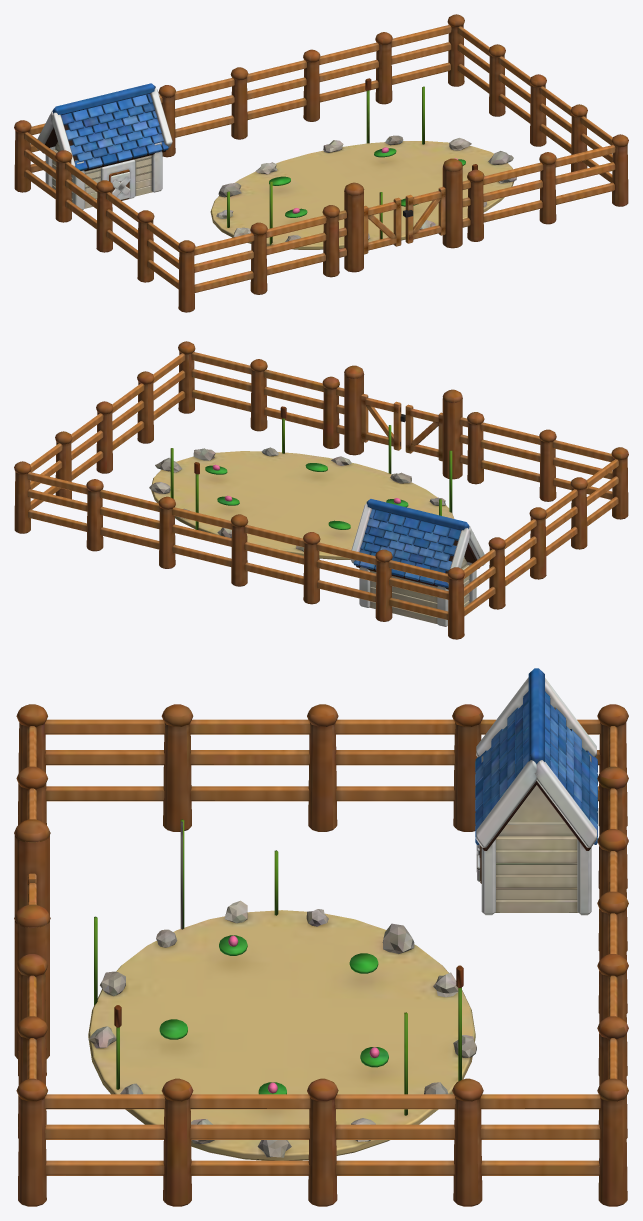
File: call_duck_pond.glb
3 views of the same model, one above another, from view 1: azimuth 30°, elevation 25°; view 2: azimuth 150°, elevation 25°; view 3: azimuth 270°, elevation 25° (orthographic). The views are drawn at different scales.
Parts seen in each view (by area): view 1: call_duck_pond, gate1, gate0; view 2: call_duck_pond, gate1, gate0; view 3: call_duck_pond.
Part boxes in pixels (<box>): call_duck_pond: <box>14,14,628,312</box>; gate1: <box>403,186,445,243</box>; gate0: <box>364,197,401,254</box>; call_duck_pond: <box>14,341,628,639</box>; gate1: <box>361,393,405,450</box>; gate0: <box>405,404,442,461</box>; call_duck_pond: <box>14,668,628,1206</box>.
Bounding box in the file's own units: 3 × 0.615 × 2.01.
Materials: 1 (1 with a texture image).
